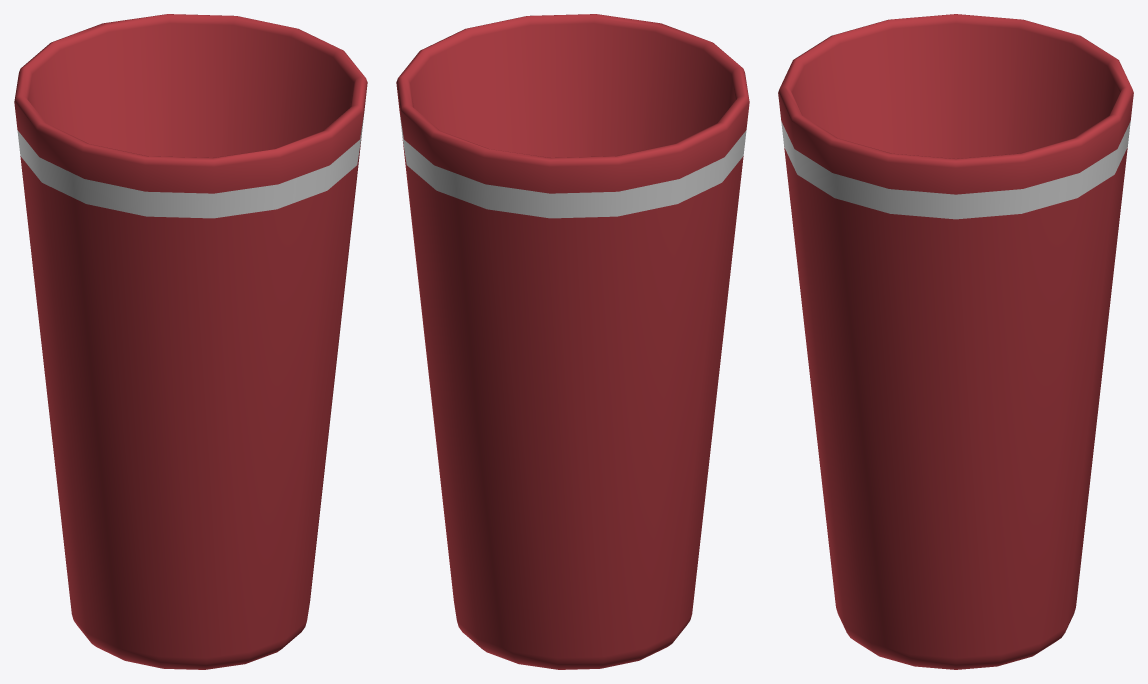
Rendered from RedCup.fbx.
3 renders of one model, left to right at view 1: azimuth 30°, elevation 25°; view 2: azimuth 150°, elevation 25°; view 3: azimuth 270°, elevation 25°, orthographic.
Parts seen in each view (by area): view 1: Cylinder; view 2: Cylinder; view 3: Cylinder.
Boxes of the visible parts, x1,y1,x2,y2 form: Cylinder: (14,14,367,669); Cylinder: (396,14,749,669); Cylinder: (778,14,1133,669).
Size of the model in its own units: 13.39 by 22.47 by 13.39.
